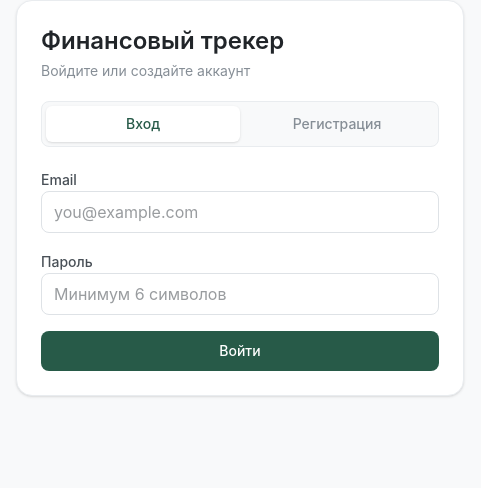
LoginForm › показывает ошибку при повторной регистрации существующего email
Click the button "Регистрация" at (337, 124), box [240,106,434,142]
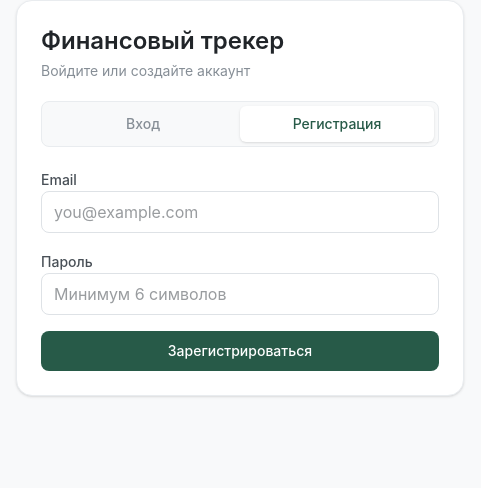
Type "used@example.com" into the field labelled "Email" at (240, 212), box [41,191,439,233]
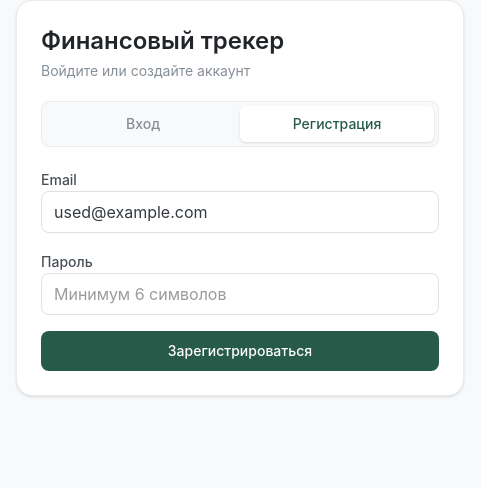
Type "secret123" into the password field labelled "Пароль" at (240, 294), box [41,273,439,315]
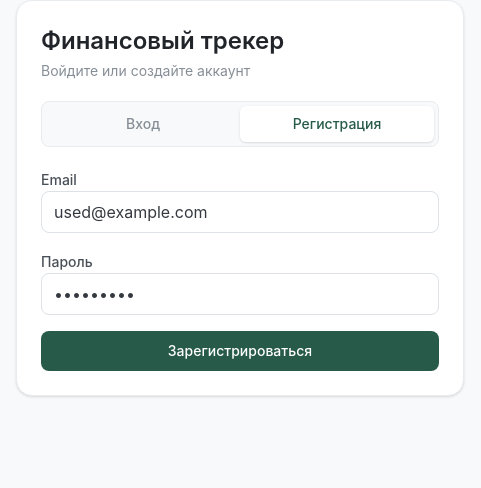
Click the button "Зарегистрироваться" at (240, 351), box [41,331,439,371]
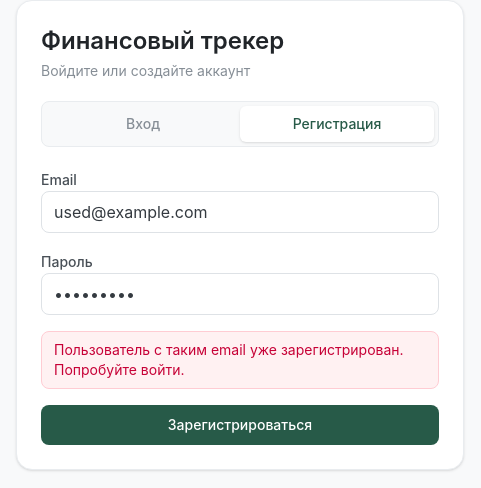
Expected: the message reads "Пользователь с таким email уже зарегистрирован. Попробуйте войти.", [54,341,404,378]
